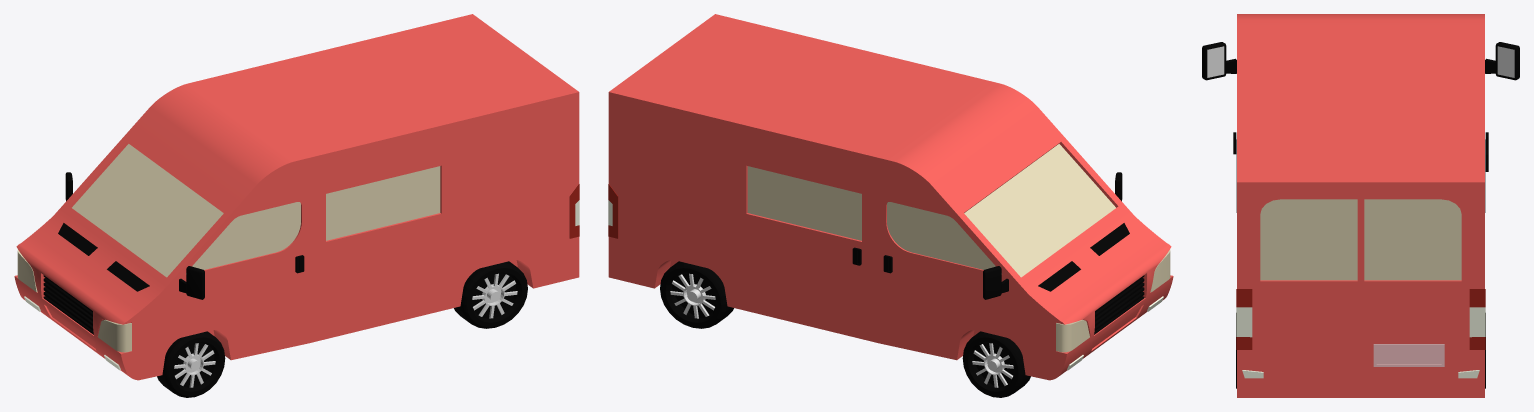
3 renders of one model, left to right at view 1: azimuth 30°, elevation 25°; view 2: azimuth 150°, elevation 25°; view 3: azimuth 270°, elevation 25°, orthographic. The views are drawn at different scales.
Visible parts, largest first — view 1: car1.004; view 2: car1.004; view 3: car1.004.
Boxes of the visible parts, bbox=[...] form: car1.004: bbox=[14, 14, 579, 397]; car1.004: bbox=[608, 14, 1173, 397]; car1.004: bbox=[1202, 14, 1519, 397].
Bounding box in the file's own units: 591 × 266 × 304.
